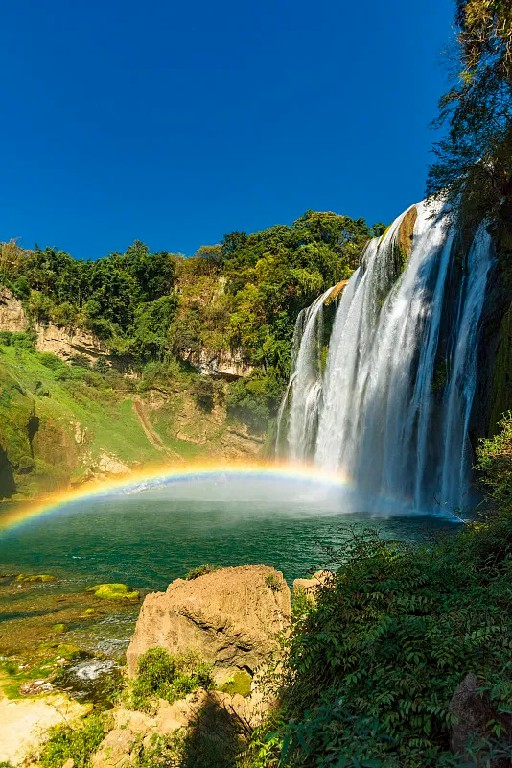Huangguoshu: (273, 196, 486, 518)
